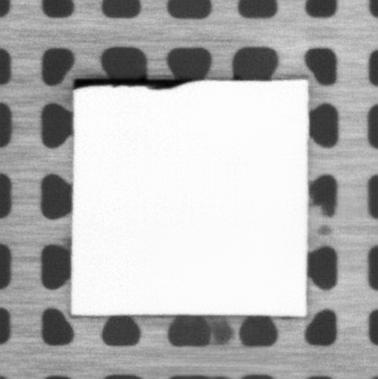DIE_BROKEN: (72, 76, 192, 92)
